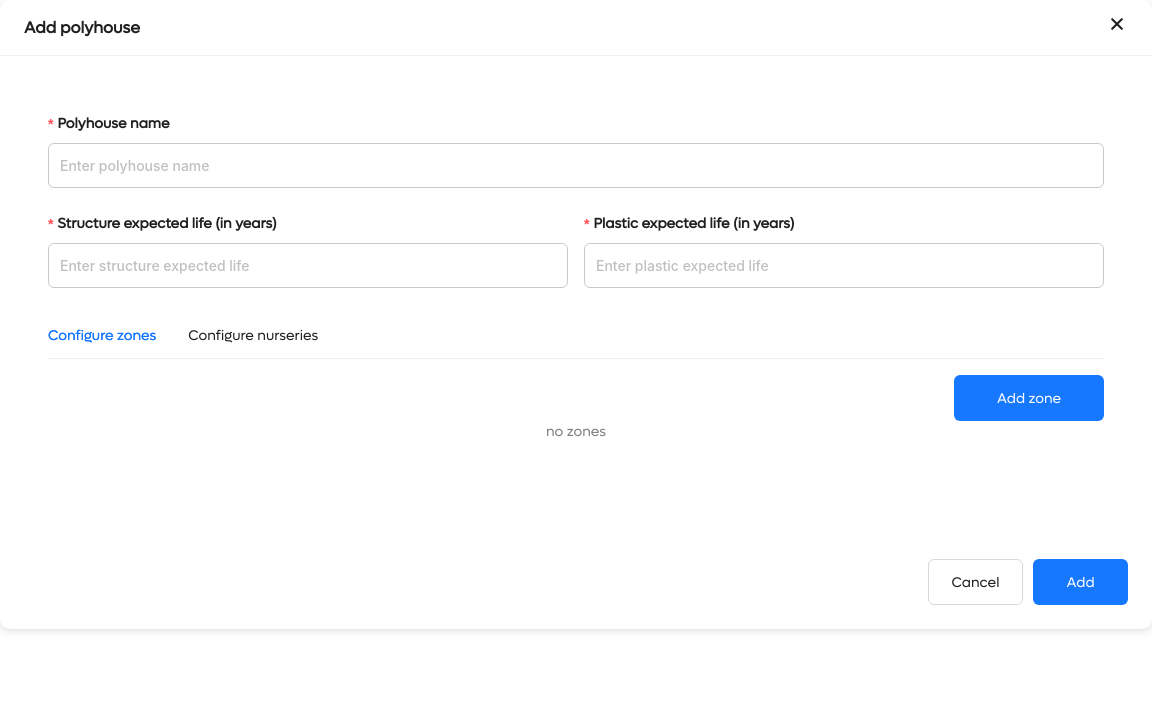
Test: Add polyhouse page › should open modal when click on add zone button
Click the button "Add zone": [1029, 398] box x1=954 y1=375 x2=1104 y2=421
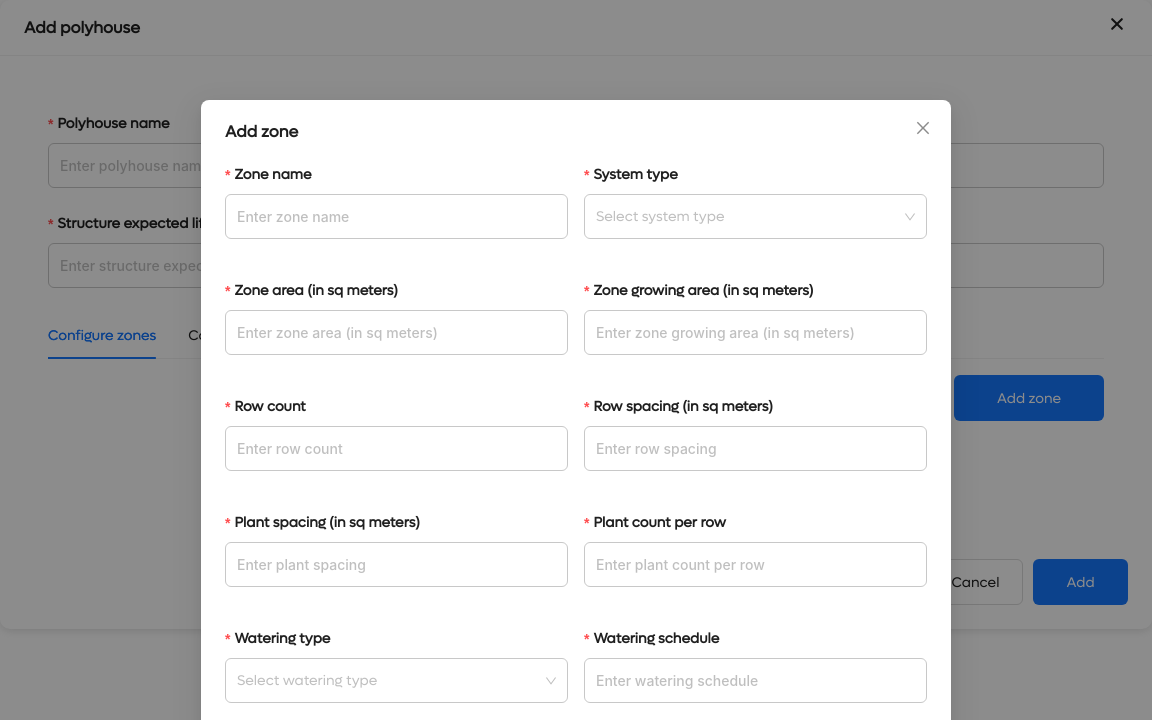
Check: the text "Zone name" is shown, box x1=225 y1=164 x2=325 y2=186
Check: the search field "System type" is shown, box x1=584 y1=164 x2=691 y2=186
